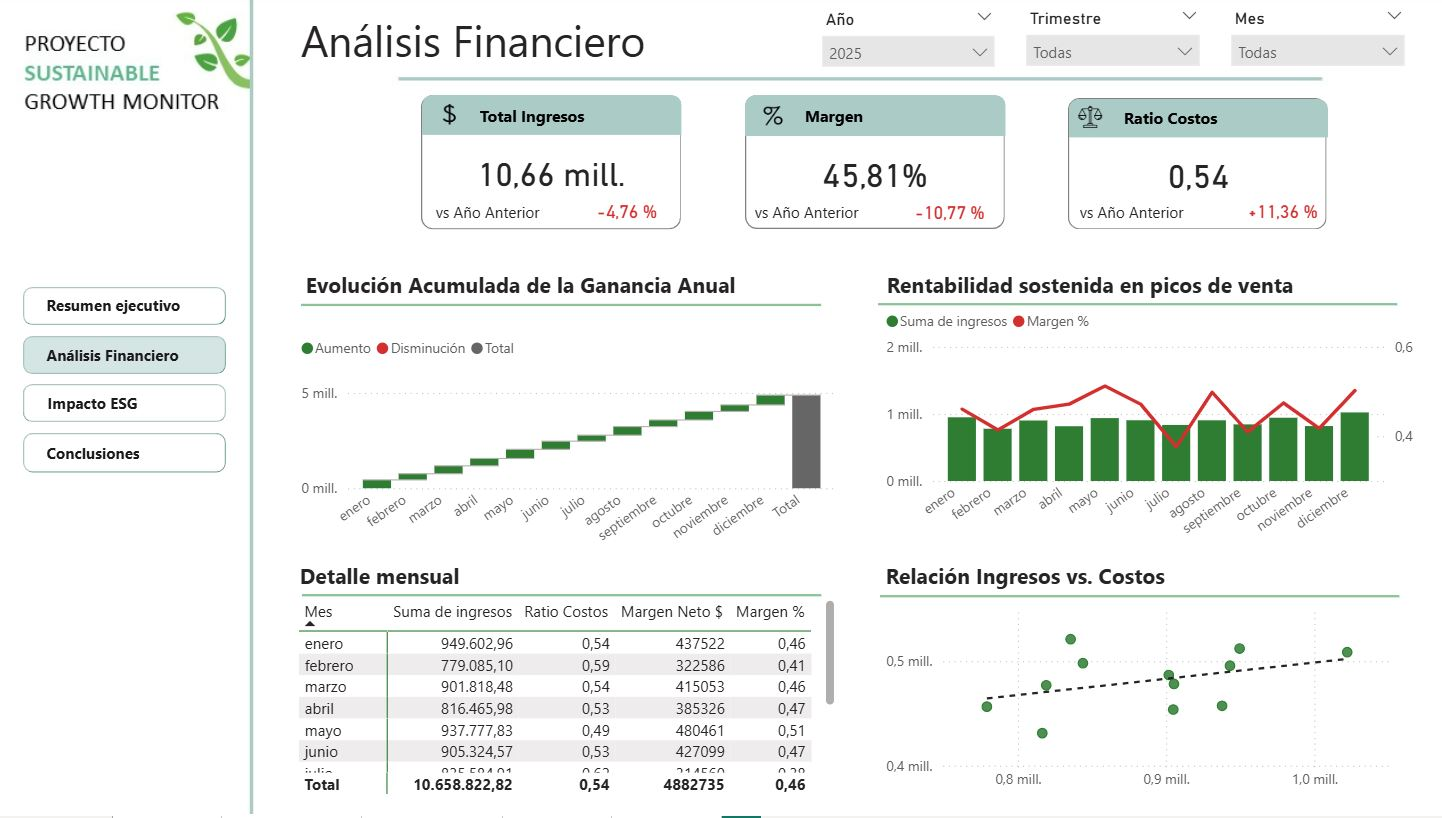

This screenshot's page, from the dashboard's own definition file:
{"tool":"powerbi","page":{"name":"Análisis Financiero","canvas":[1280,720],"ordinal":2},"visuals":[{"type":"textbox","box":[260.4,8.8,479.1,60.4],"z":0},{"type":"waterfallChart","fields":{"Category":["Calendario.Mes"],"Y":["finanzas_limpio.Margen Neto $"]},"box":[260.9,289.8,479.3,203.4],"z":1000},{"type":"textbox","box":[265.3,236.1,498.6,43.1],"z":2000},{"type":"shape","box":[371.6,87,228.4,118],"z":3000,"group":"g1"},{"type":"shape","box":[655.8,87.4,228.2,117.6],"z":3000,"group":"g2"},{"type":"shape","box":[939.9,89.6,227.1,115.4],"z":3000,"group":"g3"},{"type":"textbox","box":[775,236.1,505.6,38.9],"z":3000},{"type":"lineStackedColumnComboChart","fields":{"Category":["Calendario.Mes"],"Y2":["finanzas_limpio.Margen %"],"Y":["Sum(finanzas_limpio.ingresos)"]},"box":[774.2,265.7,473.1,225.8],"z":4000},{"type":"textbox","box":[260.2,491.5,453.8,39.8],"z":5000},{"type":"pivotTable","fields":{"Rows":["Calendario.Mes"],"Values":["Sum(finanzas_limpio.ingresos)","finanzas_limpio.Ratio Costos","finanzas_limpio.Margen Neto $","finanzas_limpio.Margen %"]},"box":[259.4,524.6,481.2,181.2],"z":6000},{"type":"scatterChart","fields":{"X":["Sum(finanzas_limpio.ingresos)"],"Y":["Sum(finanzas_limpio.costos)"],"Category":["Calendario.Mes"]},"box":[774.7,524.3,472.4,181.6],"z":7000},{"type":"textbox","box":[774.2,491.5,453.8,39.8],"z":8000},{"type":"shape","box":[266.4,264.9,456.7,12.2],"z":9000},{"type":"shape","box":[772.4,264.5,456.3,12.6],"z":10000},{"type":"shape","box":[266.7,519.7,456.3,12.6],"z":11000},{"type":"shape","box":[774.7,520.8,456.3,12.6],"z":12000},{"type":"shape","box":[21.8,255.1,178.2,33.3],"z":13000},{"type":"shape","box":[21.8,298.7,178.2,33.3],"z":14000},{"type":"shape","box":[21.8,341,178.2,33.3],"z":15000},{"type":"shape","box":[21.8,383.3,178.2,34.6],"z":16000},{"type":"actionButton","box":[21.5,255,178.5,33.5],"z":17000},{"type":"actionButton","box":[21.2,297.8,178.8,34.1],"z":18000},{"type":"actionButton","box":[21.6,340.2,178.4,34],"z":19000},{"type":"actionButton","box":[21.5,383.3,178.5,34.4],"z":20000},{"type":"group","id":"g1","title":"Grupo 1","box":[371.6,87,229,118],"z":21000},{"type":"card","fields":{"Values":["Sum(finanzas_limpio.ingresos)"]},"box":[371.6,121.1,228.4,67],"z":22000},{"type":"group","id":"g2","title":"Grupo 1","box":[655.8,87,229,118],"z":23000},{"type":"card","fields":{"Values":["finanzas_limpio.Margen %"]},"box":[656,122,228.6,67],"z":24000},{"type":"group","id":"g3","title":"Grupo 1","box":[939.9,89.6,228.4,115.4],"z":25000},{"type":"card","fields":{"Values":["finanzas_limpio.Ratio Costos"]},"box":[940.4,124.8,227.5,63.3],"z":26000},{"type":"textbox","box":[378.9,175.2,102.8,37.6],"z":27000},{"type":"textbox","box":[659.3,175.4,102.5,37.3],"z":28000},{"type":"textbox","box":[945,175.2,102.8,37.6],"z":29000},{"type":"card","fields":{"Values":["finanzas_limpio.Var % Ingresos"]},"box":[500,172.5,104.6,35.8],"z":30000},{"type":"card","fields":{"Values":["finanzas_limpio.Var % Margen Pct"]},"box":[783.1,172.9,104.2,35.6],"z":31000},{"type":"shape","box":[372.4,87,228.2,35.1],"z":32000,"group":"g1"},{"type":"shape","box":[655.8,87,229,36],"z":32000,"group":"g2"},{"type":"shape","box":[940.8,90.5,227.5,33.9],"z":32000,"group":"g3"},{"type":"card","fields":{"Values":["finanzas_limpio.Var % Ratio Costos"]},"box":[1075.2,172.5,104.6,35.8],"z":32000},{"type":"slicer","fields":{"Values":["Calendario.Mes"]},"box":[1072.8,6.6,172,61.3],"z":33000},{"type":"image","box":[378.9,95.3,34.9,18.3],"z":33000,"group":"g1"},{"type":"image","box":[940,96,38.5,21.1],"z":33000,"group":"g3"},{"type":"image","box":[662,97.1,36.7,16.5],"z":33000,"group":"g2"},{"type":"slicer","fields":{"Values":["Calendario.Año"]},"box":[713.9,6.8,171.2,61.6],"z":34000},{"type":"textbox","box":[417.8,90.3,135.2,30.8],"z":34000,"group":"g1"},{"type":"textbox","box":[703.1,90.3,136.3,34.1],"z":34000,"group":"g2"},{"type":"textbox","box":[983.9,91.8,138.5,30.8],"z":34000,"group":"g3"},{"type":"slicer","fields":{"Values":["Calendario.Trimestre"]},"box":[893,6.6,172,61.3],"z":35000}]}

Visuals, with their boxes on the page's 1280x720 design canvas (x1, y1, x2, y2). These are canvas units, not pixel positions in the 1442x818 screenshot, which may show the page scaled, cropped or inside an application window:
textbox: l=260, t=9, r=740, b=69
waterfallChart - Calendario.Mes x finanzas_limpio.Margen Neto $: l=261, t=290, r=740, b=493
textbox: l=265, t=236, r=764, b=279
shape: l=372, t=87, r=600, b=205
shape: l=656, t=87, r=884, b=205
shape: l=940, t=90, r=1167, b=205
textbox: l=775, t=236, r=1281, b=275
lineStackedColumnComboChart - Calendario.Mes x finanzas_limpio.Margen %: l=774, t=266, r=1247, b=492
textbox: l=260, t=492, r=714, b=531
pivotTable - Calendario.Mes x Sum(finanzas_limpio.ingresos): l=259, t=525, r=741, b=706
scatterChart - Sum(finanzas_limpio.ingresos) x Sum(finanzas_limpio.costos): l=775, t=524, r=1247, b=706
textbox: l=774, t=492, r=1228, b=531
shape: l=266, t=265, r=723, b=277
shape: l=772, t=264, r=1229, b=277
shape: l=267, t=520, r=723, b=532
shape: l=775, t=521, r=1231, b=533
shape: l=22, t=255, r=200, b=288
shape: l=22, t=299, r=200, b=332
shape: l=22, t=341, r=200, b=374
shape: l=22, t=383, r=200, b=418
actionButton: l=22, t=255, r=200, b=288
actionButton: l=21, t=298, r=200, b=332
actionButton: l=22, t=340, r=200, b=374
actionButton: l=22, t=383, r=200, b=418
"Grupo 1" group: l=372, t=87, r=601, b=205
card - Sum(finanzas_limpio.ingresos): l=372, t=121, r=600, b=188
"Grupo 1" group: l=656, t=87, r=885, b=205
card - finanzas_limpio.Margen %: l=656, t=122, r=885, b=189
"Grupo 1" group: l=940, t=90, r=1168, b=205
card - finanzas_limpio.Ratio Costos: l=940, t=125, r=1168, b=188
textbox: l=379, t=175, r=482, b=213
textbox: l=659, t=175, r=762, b=213
textbox: l=945, t=175, r=1048, b=213
card - finanzas_limpio.Var % Ingresos: l=500, t=172, r=605, b=208
card - finanzas_limpio.Var % Margen Pct: l=783, t=173, r=887, b=208
shape: l=372, t=87, r=601, b=122
shape: l=656, t=87, r=885, b=123
shape: l=941, t=90, r=1168, b=124
card - finanzas_limpio.Var % Ratio Costos: l=1075, t=172, r=1180, b=208
slicer - Calendario.Mes: l=1073, t=7, r=1245, b=68
image: l=379, t=95, r=414, b=114
image: l=940, t=96, r=978, b=117
image: l=662, t=97, r=699, b=114
slicer - Calendario.Año: l=714, t=7, r=885, b=68
textbox: l=418, t=90, r=553, b=121
textbox: l=703, t=90, r=839, b=124
textbox: l=984, t=92, r=1122, b=123
slicer - Calendario.Trimestre: l=893, t=7, r=1065, b=68
